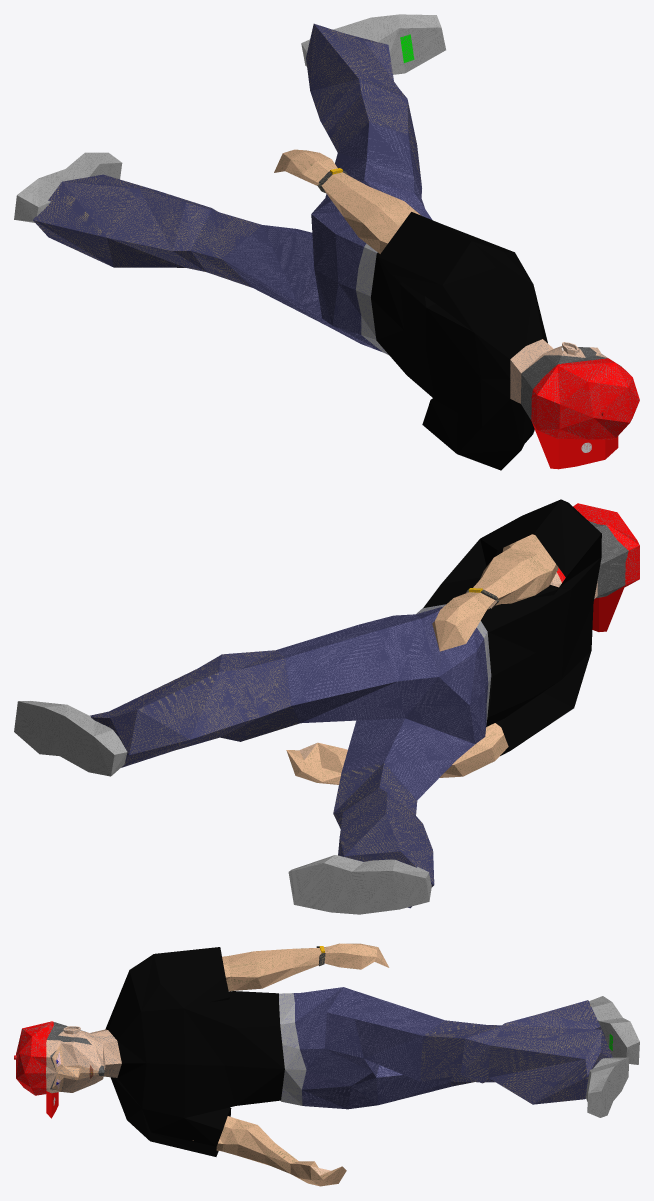
3 renders of one model, top to bottom at view 1: azimuth 30°, elevation 25°; view 2: azimuth 150°, elevation 25°; view 3: azimuth 270°, elevation 25°, orthographic. The views are drawn at different scales.
Visible parts, largest first — view 1: man; view 2: man; view 3: man.
Part boxes in pixels (bbox=[...]): man: bbox=[14, 14, 639, 470]; man: bbox=[14, 499, 639, 914]; man: bbox=[14, 943, 639, 1186].
Bounding box in the file's own units: 42.36 × 23.86 × 71.06.
